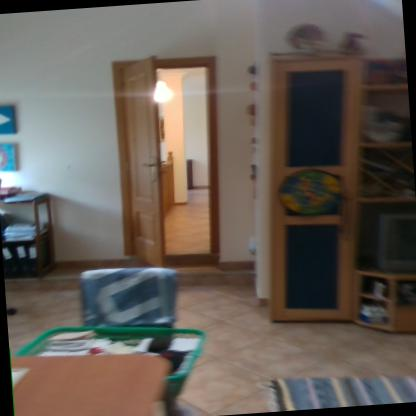semi: (102, 41, 243, 262)
